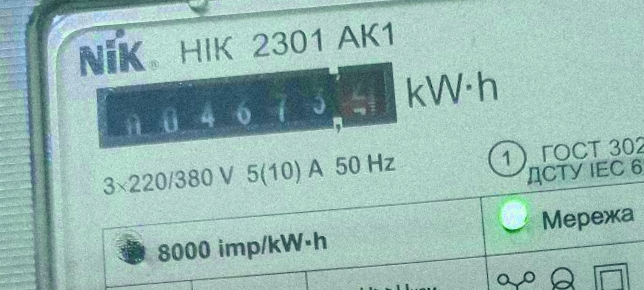0: (121, 107, 143, 139), (158, 102, 179, 134)
2: (345, 69, 368, 103)
3: (307, 82, 327, 117)
4: (196, 94, 217, 131)
6: (230, 91, 254, 127)
7: (268, 88, 293, 127)
screen: (88, 55, 403, 158)
